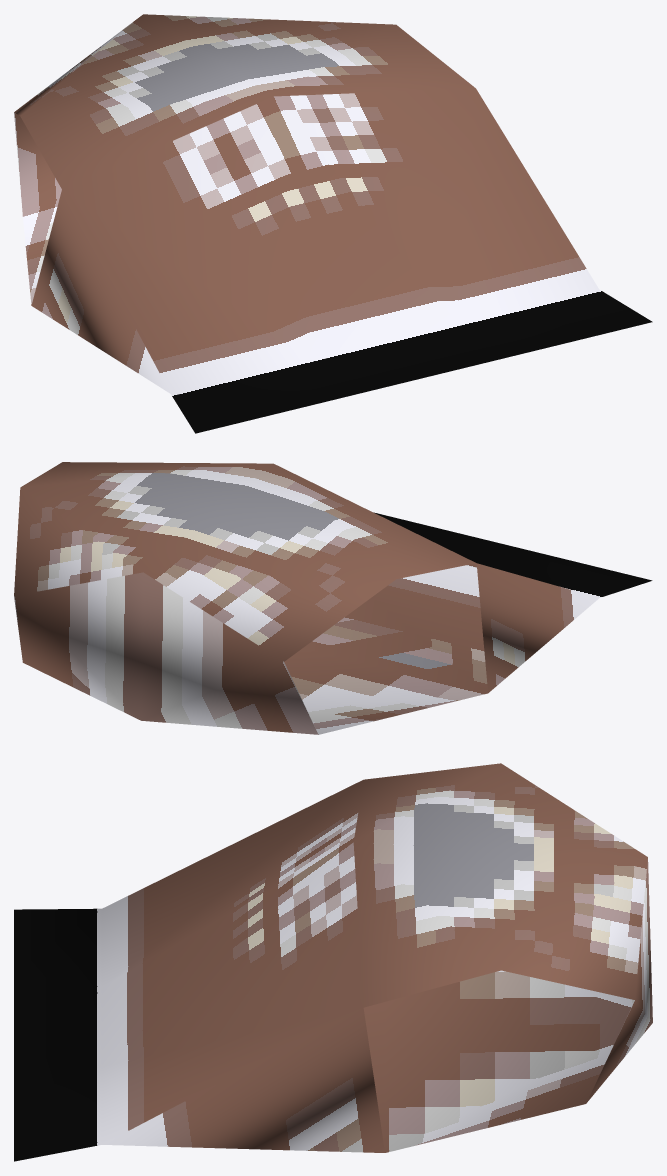
The picture shows the model from 3 angles, top to bottom: view 1: azimuth 30°, elevation 25°; view 2: azimuth 150°, elevation 25°; view 3: azimuth 270°, elevation 25°; orthographic projection. The views are drawn at different scales.
Visible parts, largest first — view 1: 1800top000_c; view 2: 1800top000_c; view 3: 1800top000_c.
Boxes of the visible parts, x1,y1,x2,y2 form: 1800top000_c: (14,14,652,433); 1800top000_c: (14,462,652,734); 1800top000_c: (14,763,652,1161).
Bounding box in the file's own units: 0.7598 × 0.2717 × 0.814.
Materials: 1 (1 with a texture image).
